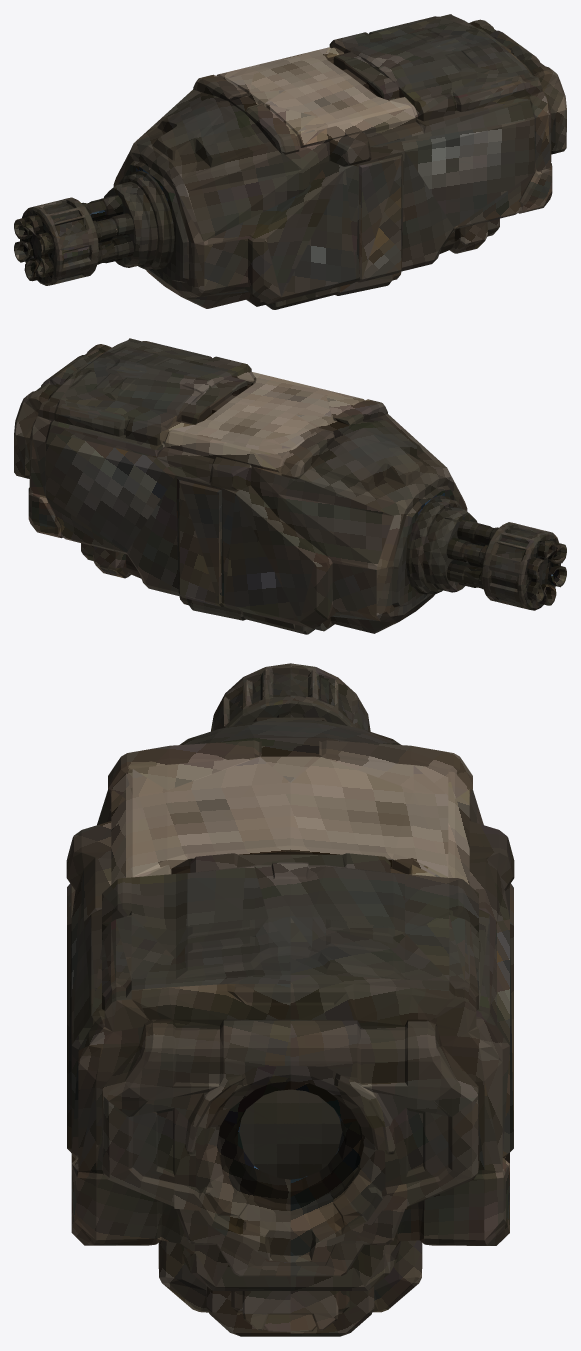
Rendered from drone_machinegun_module_v001.glb.
3 renders of one model, top to bottom at view 1: azimuth 30°, elevation 25°; view 2: azimuth 150°, elevation 25°; view 3: azimuth 270°, elevation 25°, orthographic. The views are drawn at different scales.
Parts seen in each view (by area): view 1: tripo_node_2ed2b918; view 2: tripo_node_2ed2b918; view 3: tripo_node_2ed2b918.
Boxes of the visible parts, x1,y1,x2,y2 form: tripo_node_2ed2b918: (14,14,566,309); tripo_node_2ed2b918: (14,338,566,634); tripo_node_2ed2b918: (66,663,514,1336).
Size of the model in its own units: 0.9995 by 0.3823 by 0.3901.
Materials: 1 (1 with a texture image).
